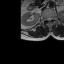CCS_normal: (48, 15, 50, 24)
LFS_normal: (52, 15, 54, 21)
LLS_normal: (50, 15, 52, 22)
RFS_stenosis: (44, 16, 46, 22)
RLS_normal: (46, 15, 48, 22)
